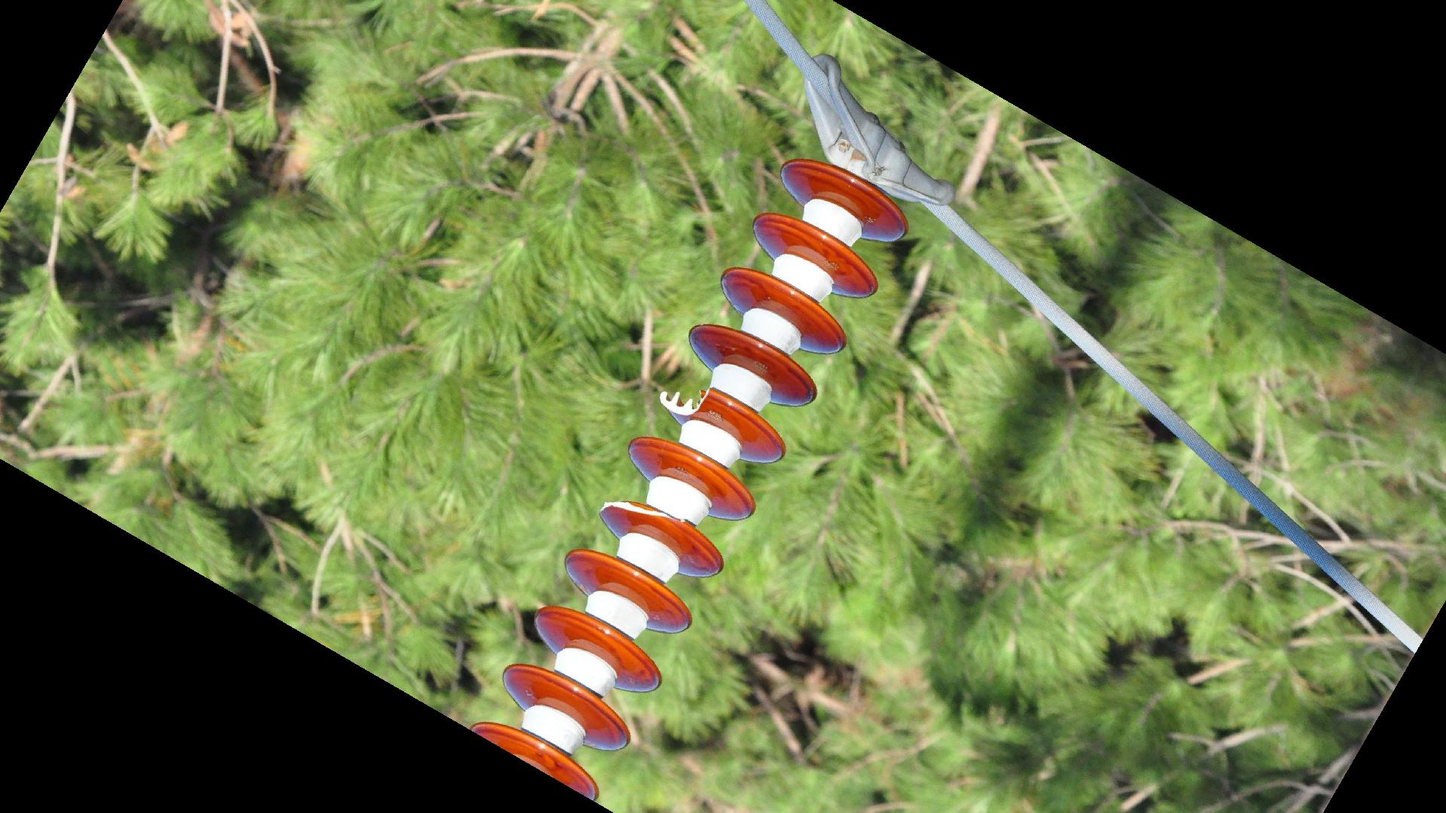insulator: (465, 154, 919, 808)
insulator_breakage: (654, 379, 721, 422), (591, 495, 685, 525)
